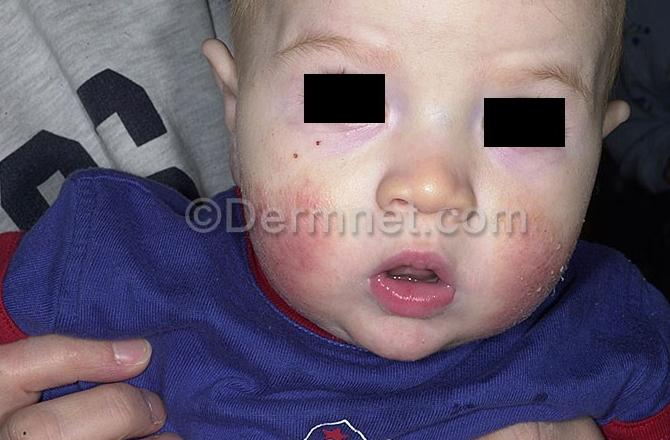Eritema 2: (246, 180, 336, 309)
edema 1: (493, 190, 567, 336), (247, 185, 337, 305)
excoriacion 1: (488, 192, 565, 333)
exudacion 1: (491, 190, 566, 333)
xerosis 3: (488, 187, 568, 333), (246, 180, 338, 306)
